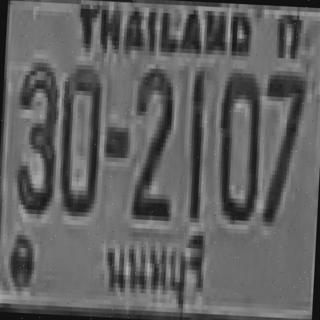N00: (214, 70, 261, 219), (57, 64, 102, 213)
N01: (185, 66, 205, 218)
N02: (131, 64, 174, 216)
N03: (14, 58, 59, 210)
N07: (259, 70, 305, 223)
P37: (102, 228, 212, 306)
